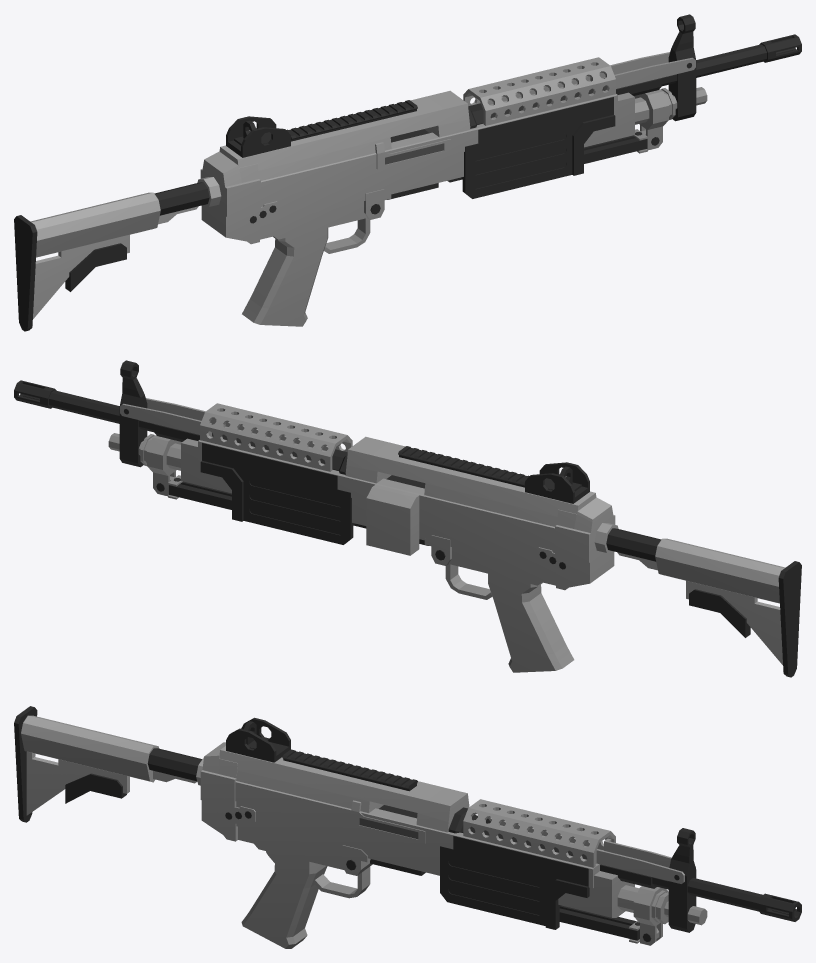
The model's file is LMG2_03.fbx.
3 views of the same model, one above another, from view 1: azimuth 30°, elevation 25°; view 2: azimuth 150°, elevation 25°; view 3: azimuth 330°, elevation 25° (orthographic).
Parts seen in each view (by area): view 1: LMG2_03; view 2: LMG2_03; view 3: LMG2_03.
Boxes of the visible parts, bbox=[...] form: LMG2_03: bbox=[14, 14, 801, 331]; LMG2_03: bbox=[14, 360, 801, 677]; LMG2_03: bbox=[14, 706, 801, 948].
Bounding box in the file's own units: 1.13 × 0.2931 × 0.0903.
